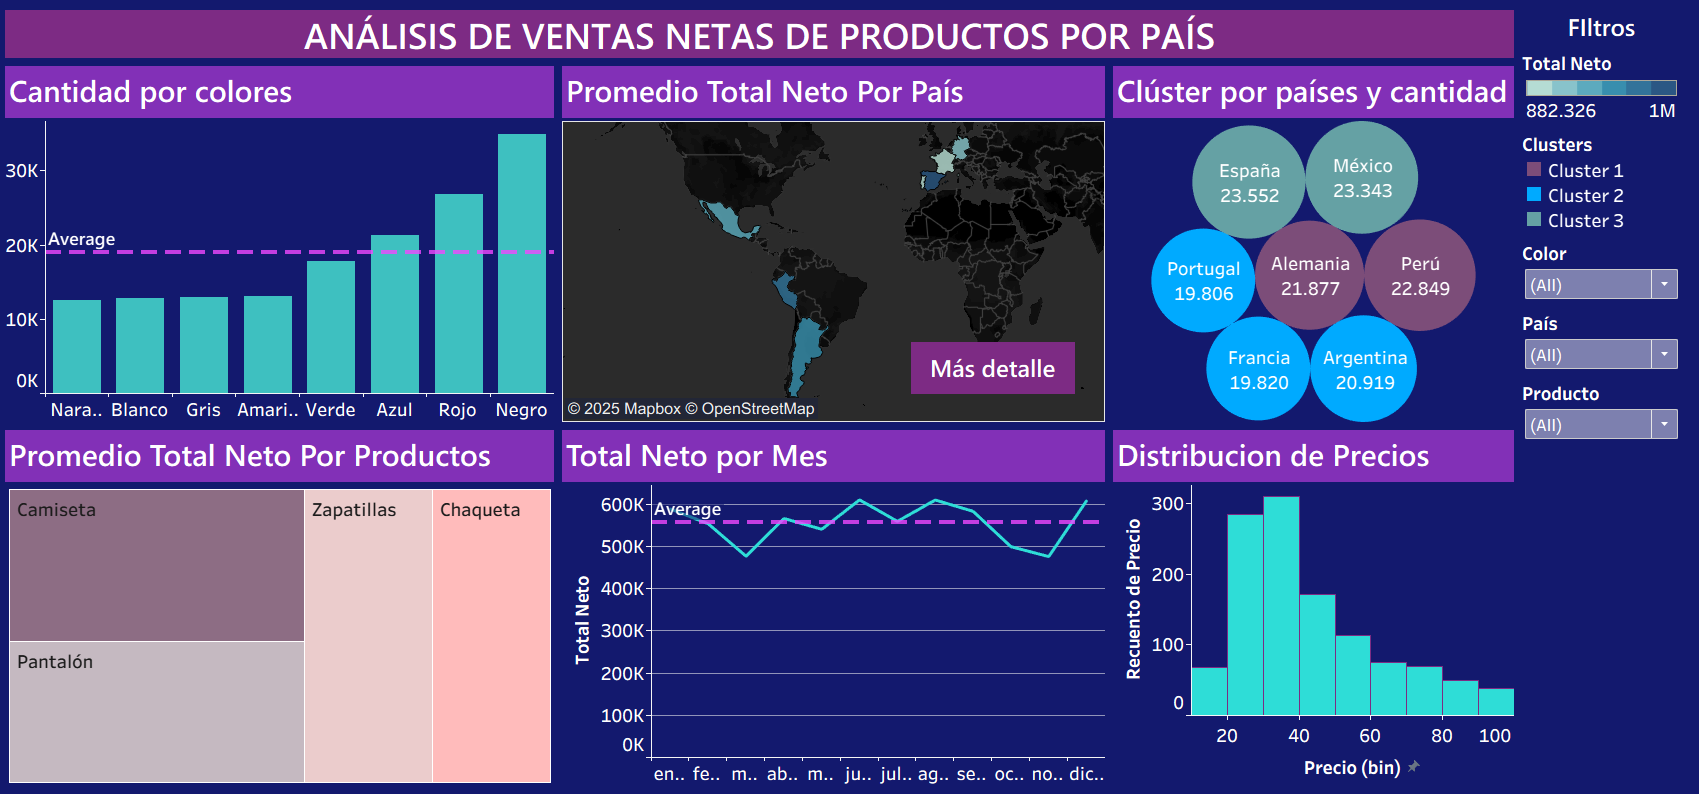

The page's visual inventory and layout, read from the dashboard file:
{"tool":"tableau","page":{"name":"Dashboard 1","canvas":[1700,800],"ordinal":0},"visuals":[{"type":"title","box":[8,8,1517,56]},{"type":"text","box":[1525,8,167,40]},{"type":"legend","title":"Promedio total neto por paises","param":"[federated.0mkgxg61wwoppb15t7icr1t5hip9].[sum:Calculation_91760882408861698:qk]","box":[1525,48,167,81]},{"type":"worksheet","title":"Cantidad por colores","mark":"Automatic","rows":["Cantidad"],"cols":["Color"],"box":[8,64,556.9,364]},{"type":"worksheet","title":"Promedio total neto por paises","mark":"Automatic","box":[564.9,64,550.9,364]},{"type":"worksheet","title":"Cluster por paises y cantidad","mark":"Circle","box":[1115.8,64,409.2,364]},{"type":"legend","title":"Cluster por paises y cantidad","param":"[federated.0mkgxg61wwoppb15t7icr1t5hip9].[none:AdhocCluster:1:ok]","box":[1525,129,167,109]},{"type":"filter","title":"Cantidad por colores","param":"[federated.0mkgxg61wwoppb15t7icr1t5hip9].[none:Color:nk]","box":[1525,238,167,70]},{"type":"filter","title":"Promedio total neto por paises","param":"[federated.0mkgxg61wwoppb15t7icr1t5hip9].[none:País:nk]","box":[1525,308,167,70]},{"type":"dashboard-object","box":[918,344,164,52]},{"type":"filter","title":"Total Neto por productos","param":"[federated.0mkgxg61wwoppb15t7icr1t5hip9].[none:Producto:nk]","box":[1525,378,167,70]},{"type":"worksheet","title":"Total Neto por productos","mark":"Automatic","box":[8,428,556.9,364]},{"type":"worksheet","title":"Total Neto Evolución","mark":"Automatic","rows":["Calculation_91760882408861698"],"cols":["Fecha Venta"],"box":[564.9,428,550.9,364]},{"type":"worksheet","title":"Distribucion de precios","mark":"Automatic","rows":["Precio"],"cols":["Precio (bin)"],"box":[1115.8,428,409.2,364]}]}

Visuals, with their boxes in screenshot pixels (x1, y1, x2, y2), scaled from the page's 1700x800 canvas onto the 1699x794 screenshot:
title: <region>8, 8, 1524, 64</region>
text: <region>1524, 8, 1691, 48</region>
"Promedio total neto por paises" legend: <region>1524, 48, 1691, 128</region>
"Cantidad por colores" worksheet: <region>8, 64, 565, 425</region>
"Promedio total neto por paises" worksheet: <region>565, 64, 1115, 425</region>
"Cluster por paises y cantidad" worksheet (Circle marks): <region>1115, 64, 1524, 425</region>
"Cluster por paises y cantidad" legend: <region>1524, 128, 1691, 236</region>
"Cantidad por colores" filter: <region>1524, 236, 1691, 306</region>
"Promedio total neto por paises" filter: <region>1524, 306, 1691, 375</region>
dashboard-object: <region>917, 341, 1081, 393</region>
"Total Neto por productos" filter: <region>1524, 375, 1691, 445</region>
"Total Neto por productos" worksheet: <region>8, 425, 565, 786</region>
"Total Neto Evolución" worksheet: <region>565, 425, 1115, 786</region>
"Distribucion de precios" worksheet: <region>1115, 425, 1524, 786</region>
